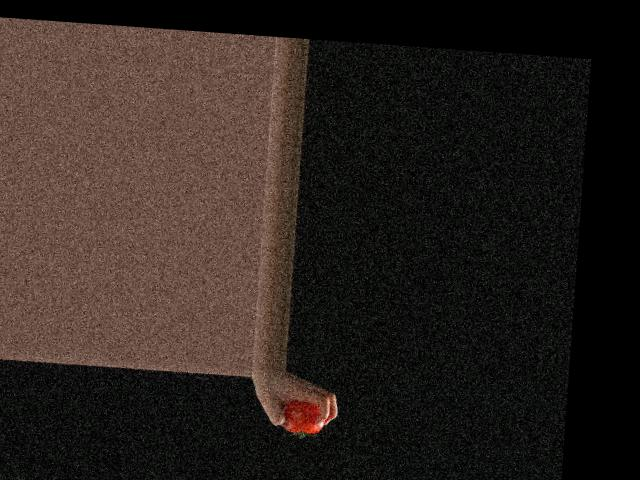tomato: (280, 400, 324, 439)
